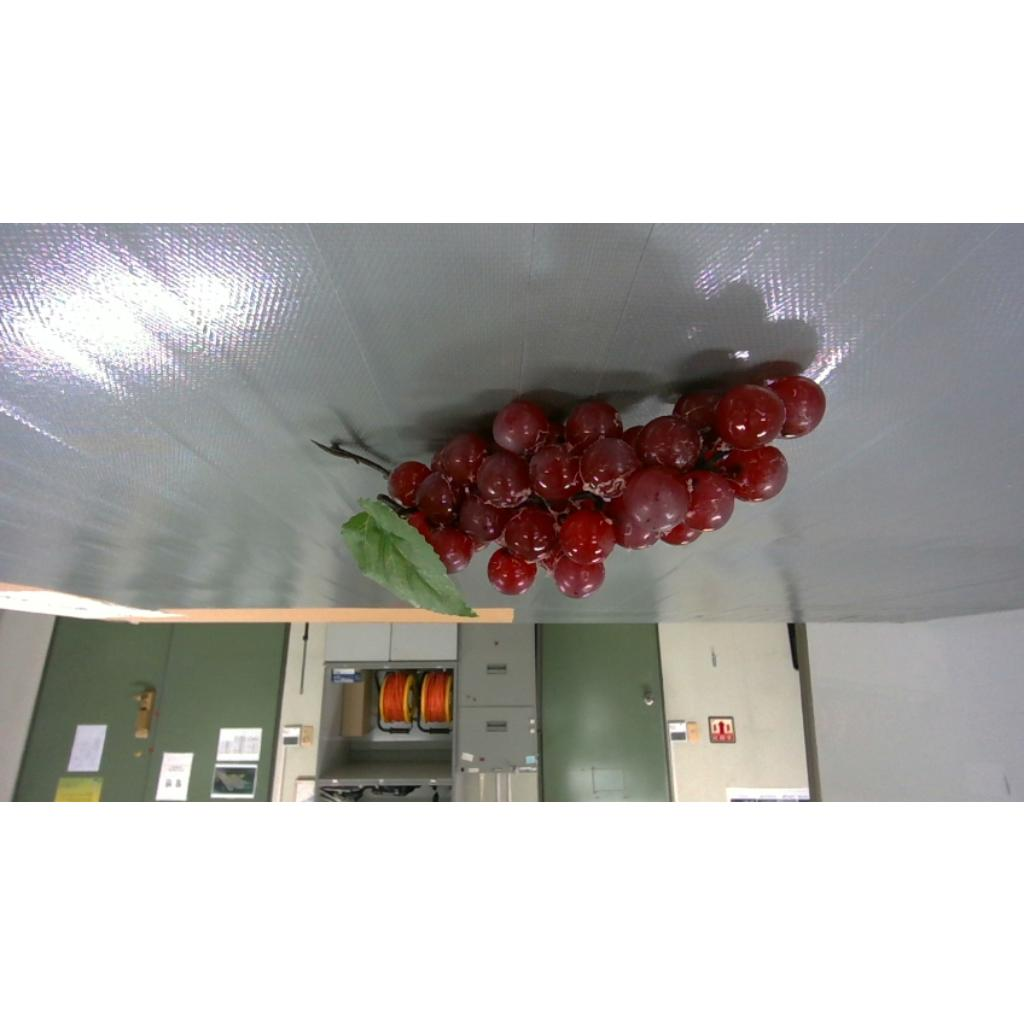grape: (321, 374, 826, 615), (556, 480, 560, 485)
